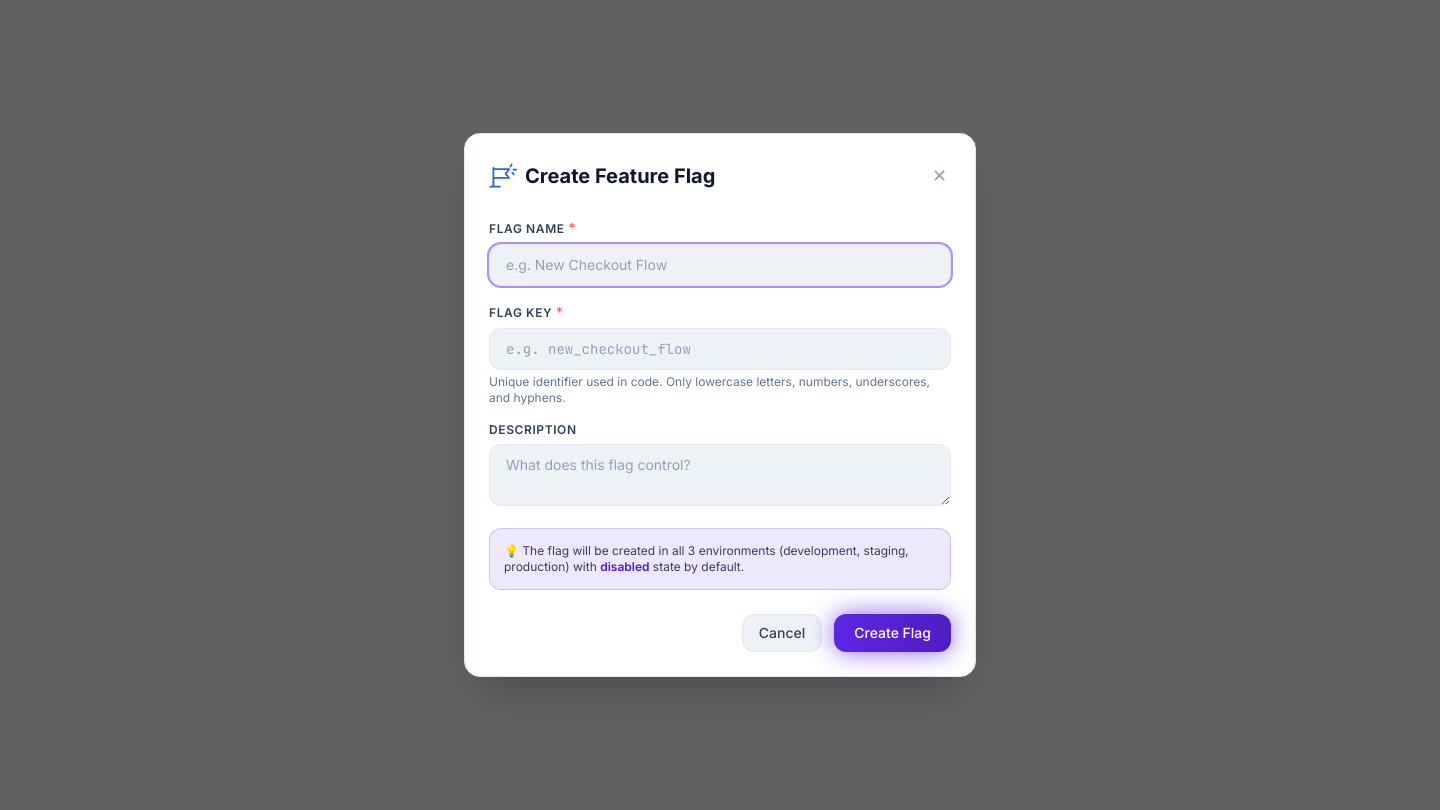
it: CreateFlagModal › auto-generates flag key from flag name
In the field labelled "Flag Name *": (720, 265) [489,244,951,286], type "New Beta Feature"
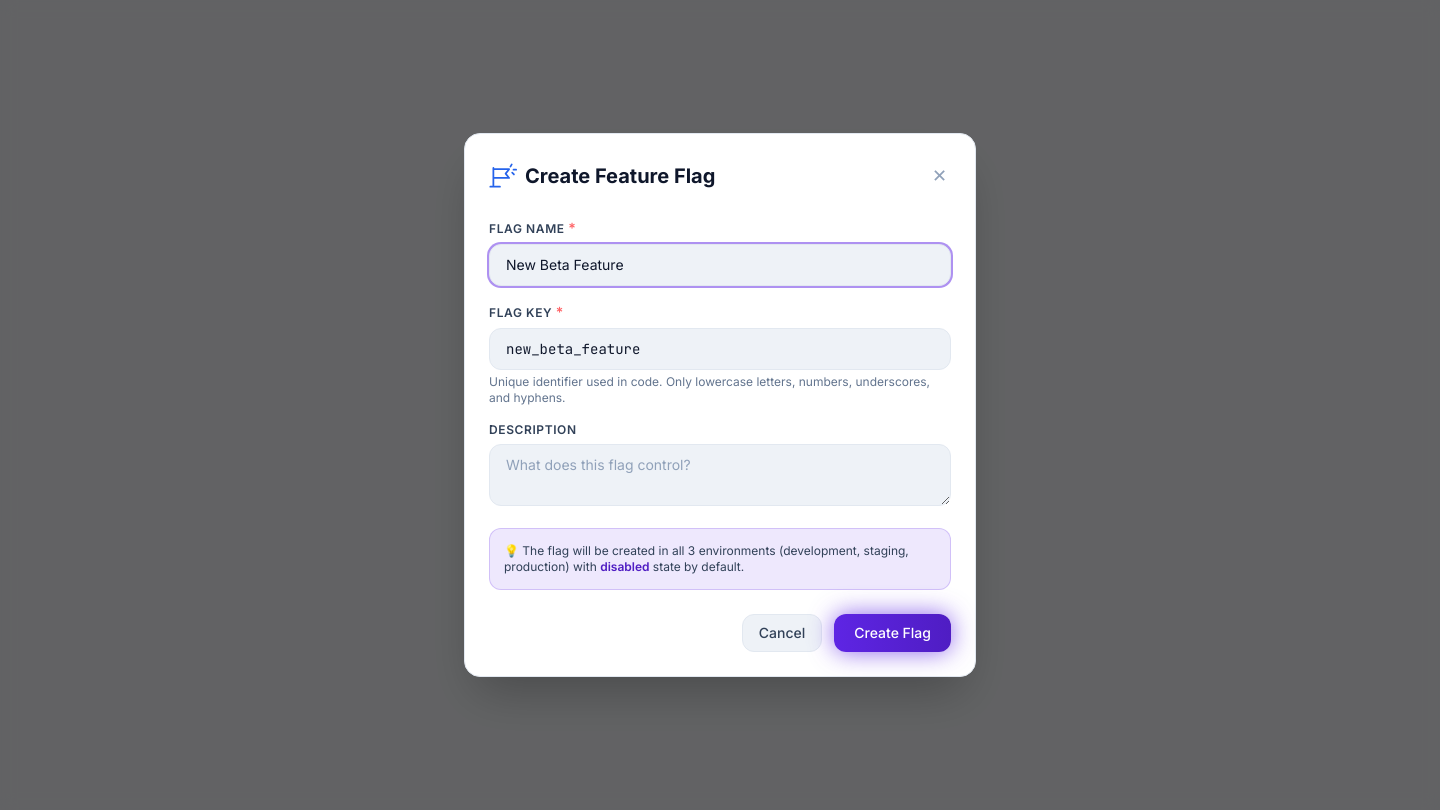
Result: the field labelled "Flag Key *" holds "new_beta_feature" at [489,328,951,370]
